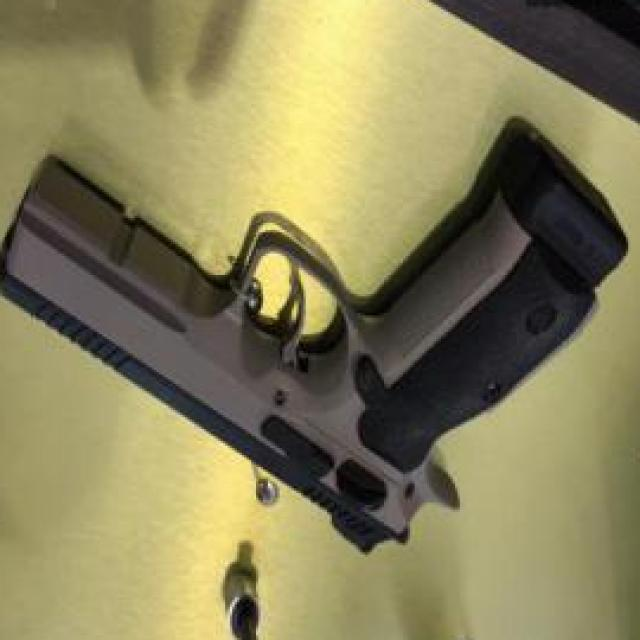pistol: (0, 121, 614, 562)
